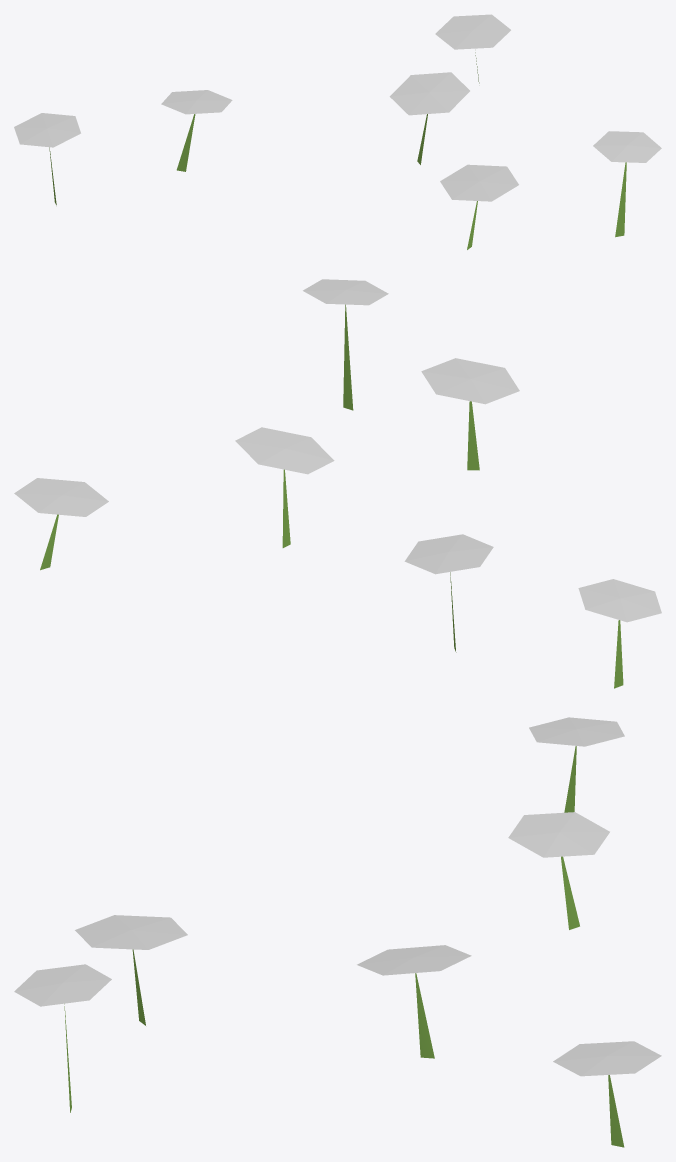
File: daisies.far.glb
3 renders of one model, top to bottom at view 1: azimuth 30°, elevation 25°; view 2: azimuth 150°, elevation 25°; view 3: azimuth 270°, elevation 25°, orthographic. The views are drawn at different scales.
Parts seen in each view (by area): view 1: daisies; view 2: daisies; view 3: daisies.
Boxes of the visible parts, bbox=[...] form: daisies: bbox=[14, 14, 661, 249]; daisies: bbox=[14, 279, 661, 688]; daisies: bbox=[14, 717, 661, 1147].
Size of the model in its own units: 0.5657 by 0.1024 by 0.4488.
